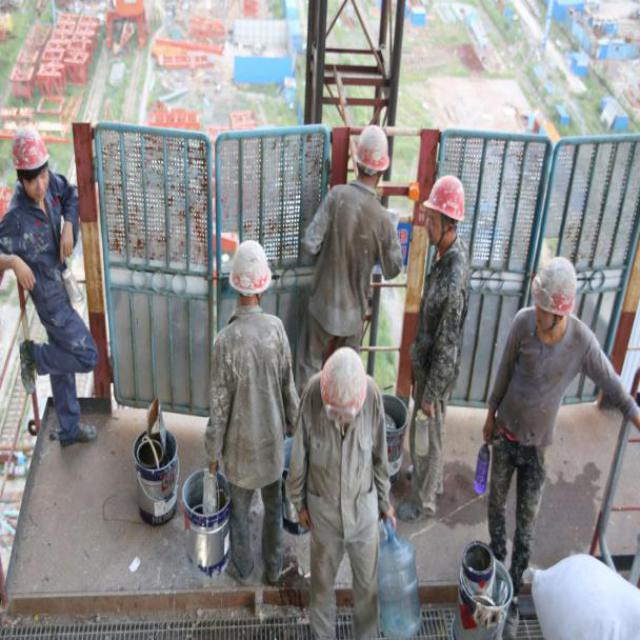helmet: (316, 318, 366, 431), (523, 250, 577, 350), (212, 223, 272, 306), (418, 162, 465, 260), (5, 117, 55, 209), (350, 120, 392, 195)
